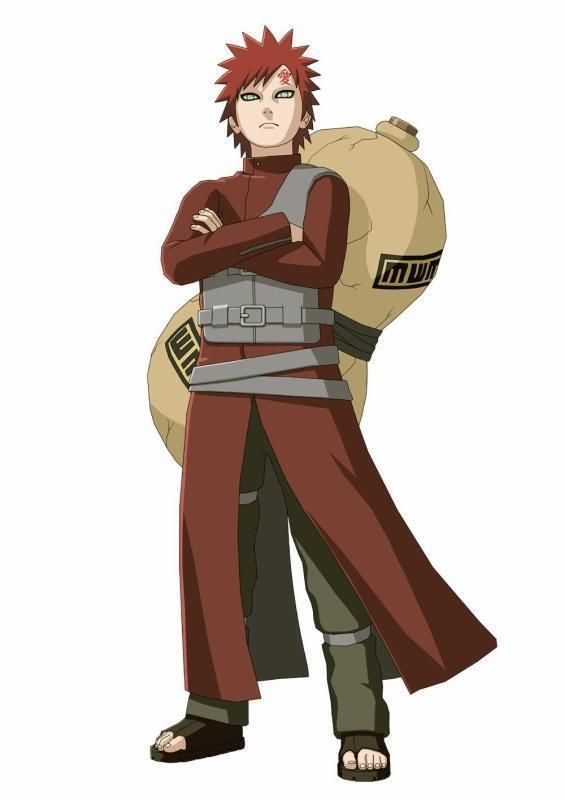gaara: (223, 60, 316, 151)
